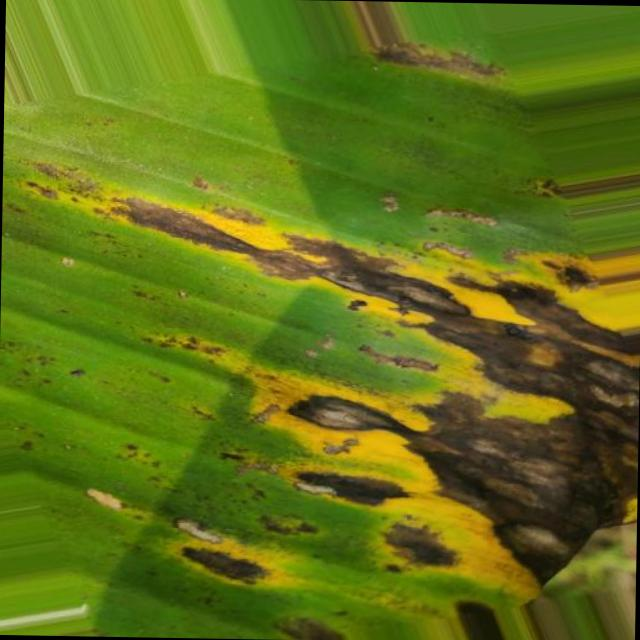Banana_Black_Sigatoka: (79, 219, 640, 640)
